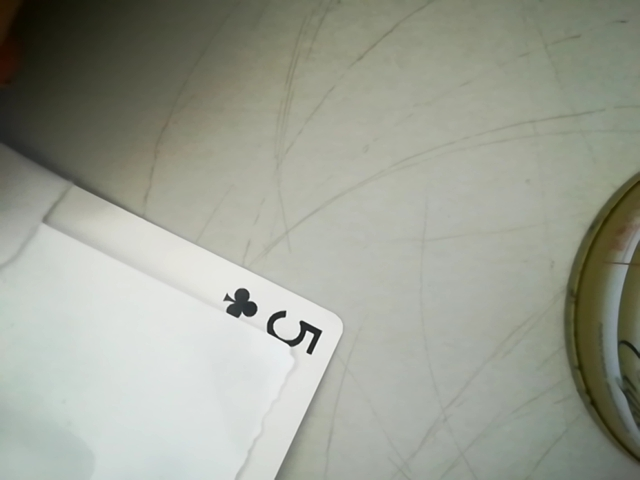mh 5: (208, 278, 334, 363)
